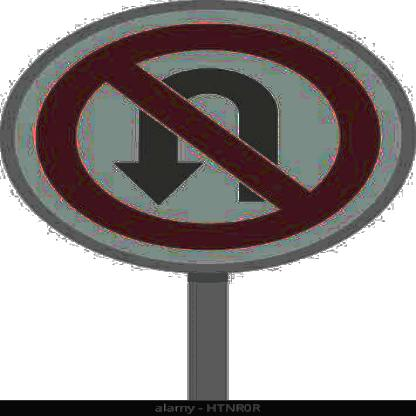No U-turn: (0, 0, 416, 278)
